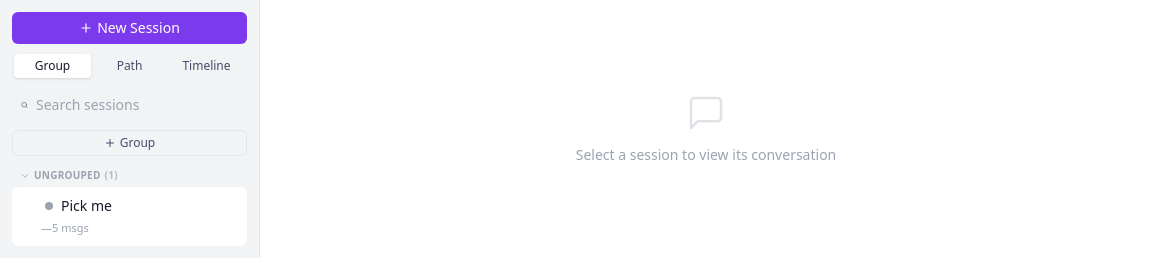
SessionsSection › clicking a session updates SessionDetailPanel to that session
Check: the message "Select a session to view its conversation" is shown, box x1=576 y1=93 x2=836 y2=164
Click the card.
Click the button with test id "session-card" at (130, 216), box x1=12 y1=187 x2=247 y2=246
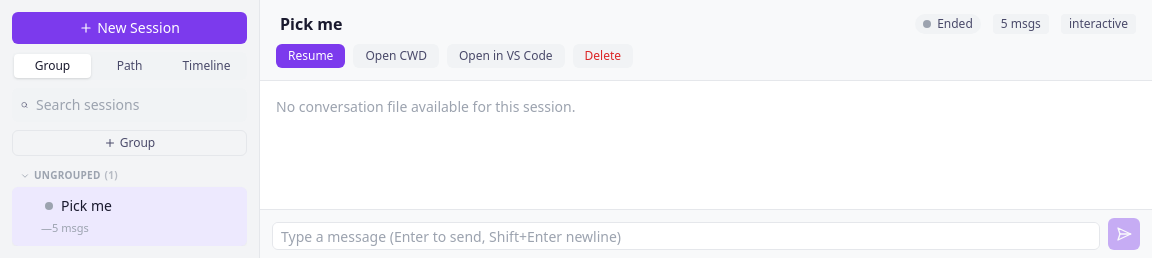
Check: the message with test id "session-detail-empty" is gone
Check: the element with test id "session-info-bar" is shown, box x1=260 y1=0 x2=1151 y2=81
